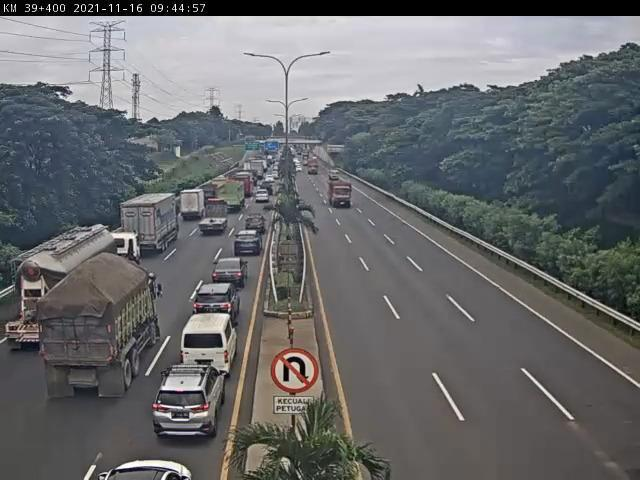car: (153, 367, 226, 437), (180, 316, 238, 374), (195, 282, 241, 326), (211, 260, 248, 288), (234, 233, 261, 258), (247, 214, 265, 233)
truck: (48, 258, 163, 397), (6, 228, 141, 343), (122, 191, 181, 252), (199, 202, 228, 237), (217, 179, 247, 211), (181, 188, 206, 219), (329, 183, 353, 211)
